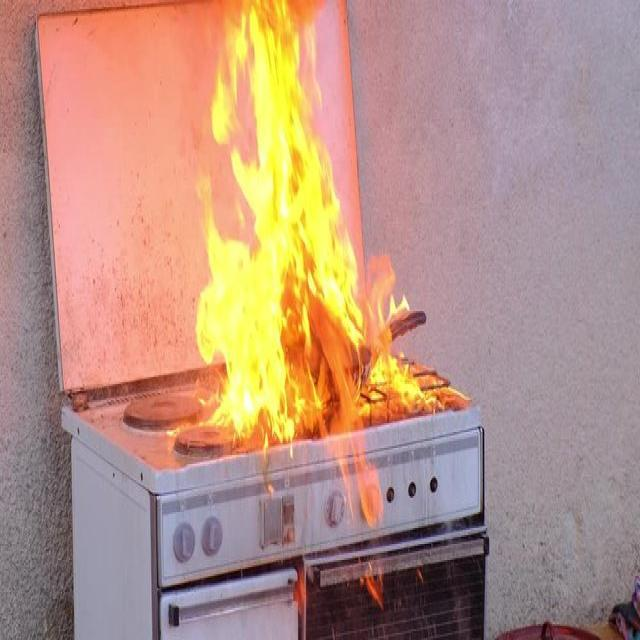Fire: (213, 12, 414, 444)
